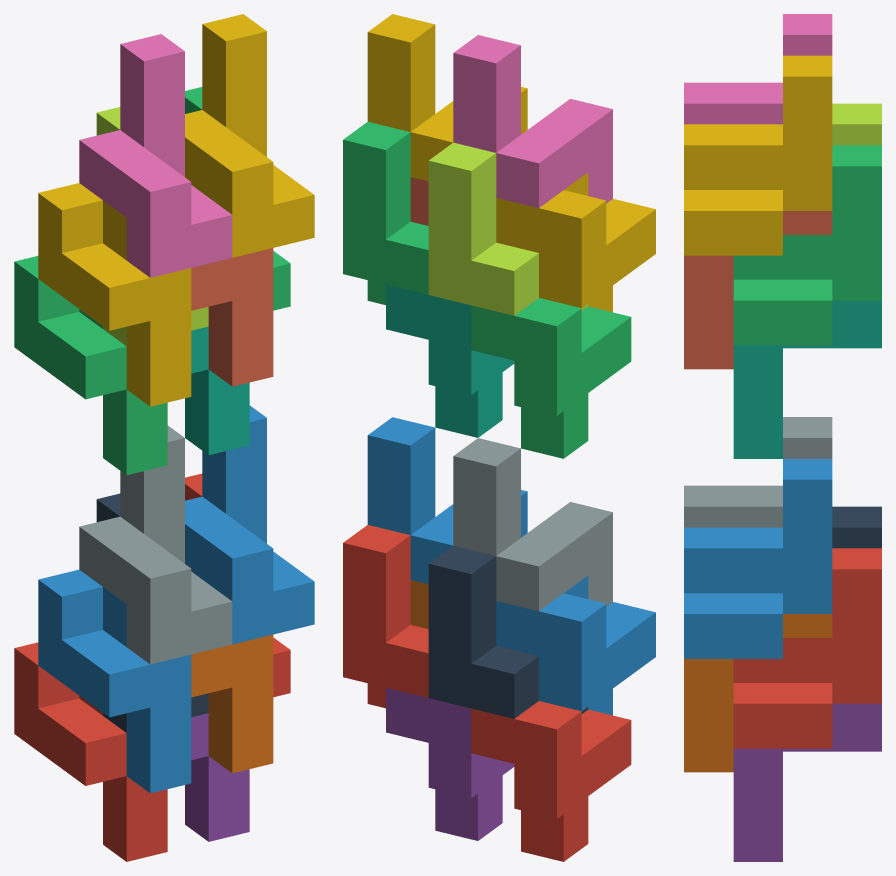
The model's file is tiling.obj.
3 views of the same model, side by side, from view 1: azimuth 30°, elevation 25°; view 2: azimuth 150°, elevation 25°; view 3: azimuth 270°, elevation 25° (orthographic). The views are drawn at different scales.
Parts seen in each view (by area): view 1: copy_2_domain_4, copy_1_domain_2, copy_1_domain_4, copy_2_domain_2, copy_2_domain_8, copy_2_domain_6, copy_1_domain_3, copy_1_domain_1, copy_1_domain_6, copy_1_domain_8, copy_1_domain_7, copy_1_domain_5 (+4 smaller); view 2: copy_2_domain_2, copy_2_domain_4, copy_1_domain_3, copy_1_domain_1, copy_2_domain_3, copy_2_domain_1, copy_1_domain_2, copy_1_domain_4, copy_2_domain_5, copy_2_domain_7, copy_1_domain_7, copy_1_domain_5 (+4 smaller); view 3: copy_2_domain_8, copy_2_domain_6, copy_2_domain_7, copy_2_domain_5, copy_1_domain_7, copy_1_domain_5, copy_1_domain_8, copy_1_domain_6, copy_2_domain_2, copy_2_domain_4, copy_2_domain_1, copy_2_domain_3.
Boxes of the visible parts, x1=… form: copy_2_domain_4: x1=79, y1=34, x2=232, y2=277; copy_1_domain_2: x1=38, y1=569, x2=191, y2=793; copy_1_domain_4: x1=38, y1=183, x2=191, y2=406; copy_2_domain_2: x1=79, y1=425, x2=232, y2=664; copy_2_domain_8: x1=185, y1=14, x2=314, y2=257; copy_2_domain_6: x1=185, y1=405, x2=314, y2=644; copy_1_domain_3: x1=14, y1=256, x2=167, y2=475; copy_1_domain_1: x1=14, y1=642, x2=167, y2=861; copy_1_domain_6: x1=191, y1=634, x2=273, y2=773; copy_1_domain_8: x1=191, y1=248, x2=273, y2=386; copy_1_domain_7: x1=185, y1=326, x2=249, y2=455; copy_1_domain_5: x1=185, y1=713, x2=249, y2=841; copy_2_domain_2: x1=453, y1=438, x2=612, y2=611; copy_2_domain_4: x1=453, y1=35, x2=612, y2=207; copy_1_domain_3: x1=471, y1=298, x2=631, y2=458; copy_1_domain_1: x1=471, y1=701, x2=631, y2=861; copy_2_domain_3: x1=428, y1=142, x2=588, y2=315; copy_2_domain_1: x1=428, y1=545, x2=588, y2=718; copy_1_domain_2: x1=496, y1=575, x2=655, y2=715; copy_1_domain_4: x1=496, y1=172, x2=655, y2=312; copy_2_domain_5: x1=343, y1=525, x2=428, y2=708; copy_2_domain_7: x1=343, y1=122, x2=428, y2=304; copy_1_domain_7: x1=386, y1=284, x2=514, y2=437; copy_1_domain_5: x1=386, y1=688, x2=514, y2=840; copy_2_domain_8: x1=684, y1=55, x2=832, y2=255; copy_2_domain_6: x1=684, y1=459, x2=832, y2=658; copy_2_domain_7: x1=733, y1=145, x2=881, y2=345; copy_2_domain_5: x1=733, y1=548, x2=881, y2=748; copy_1_domain_7: x1=733, y1=300, x2=881, y2=458; copy_1_domain_5: x1=733, y1=703, x2=881, y2=861; copy_1_domain_8: x1=684, y1=211, x2=832, y2=369; copy_1_domain_6: x1=684, y1=614, x2=832, y2=772; copy_2_domain_2: x1=684, y1=417, x2=832, y2=527; copy_2_domain_4: x1=684, y1=14, x2=832, y2=124; copy_2_domain_1: x1=832, y1=506, x2=881, y2=548; copy_2_domain_3: x1=832, y1=103, x2=881, y2=145.
Bounding box in the file's own units: 5 × 18 × 4.
